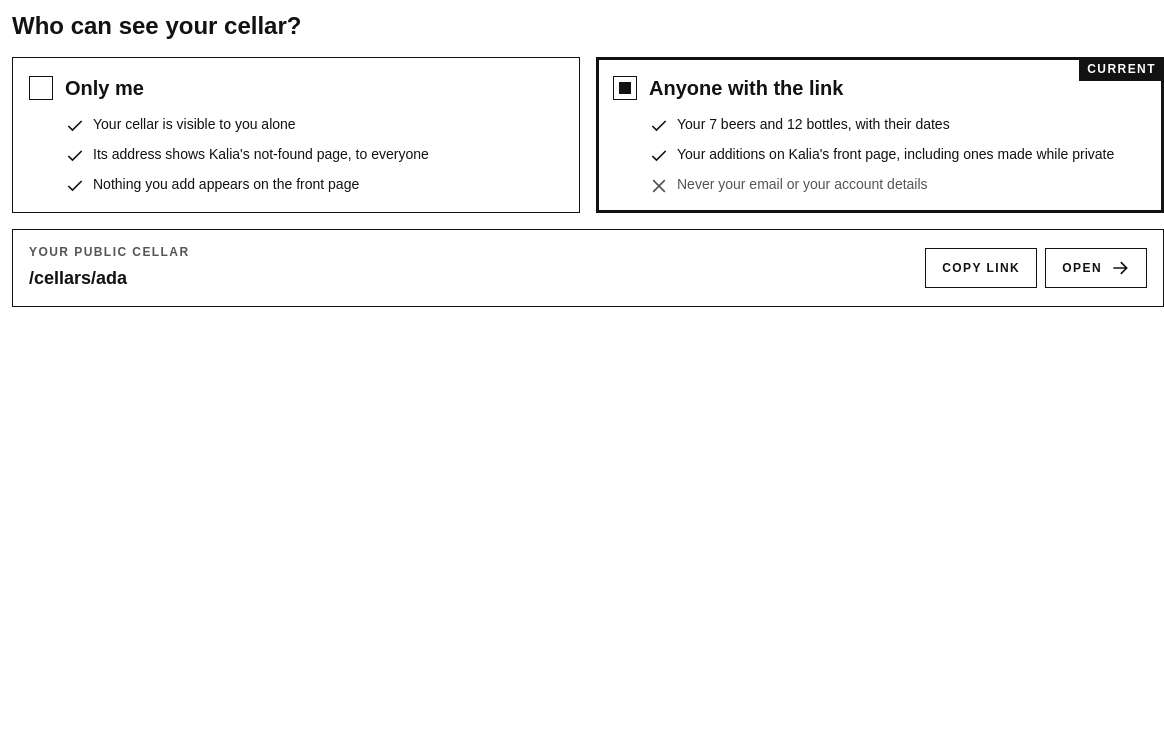
Test: VisibilityControl › makes the cellar private at once, without asking
This screenshot has width=1164, height=732.
Click the radio button labelled "Only me" at (41, 88), box [29,76,53,100]
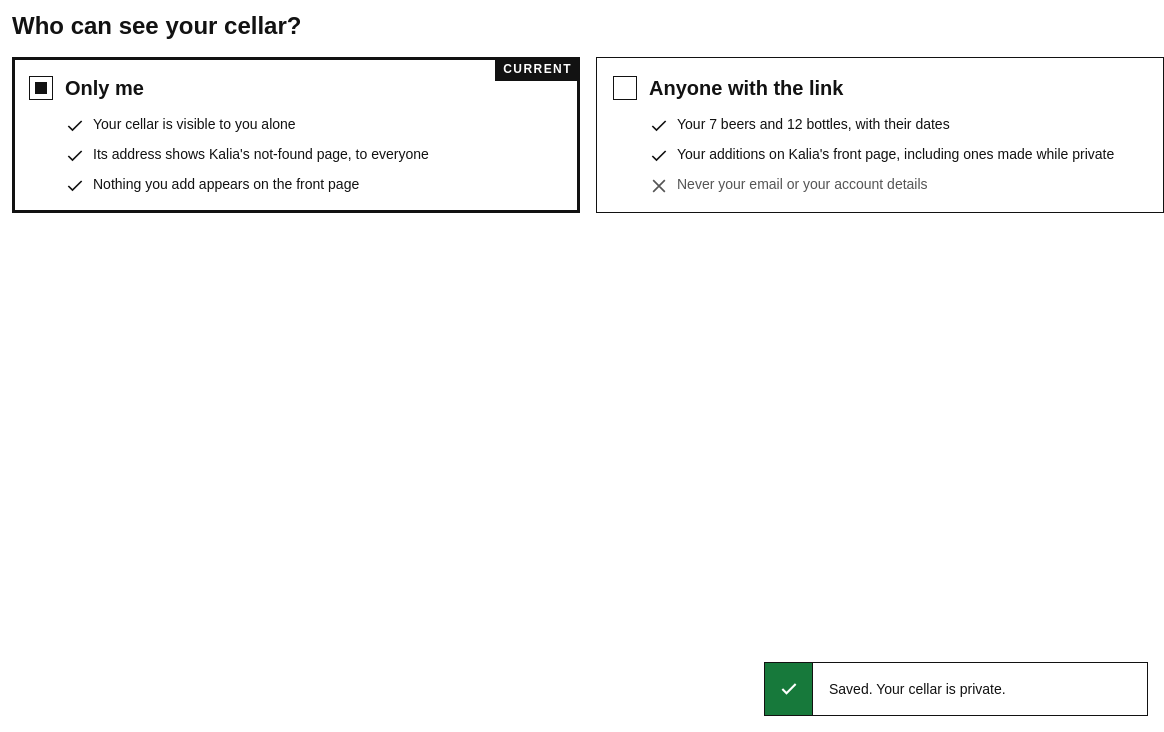
Expected: the text "Saved. Your cellar is private." is shown, [829,681,1006,697]
Expected: the text "/cellars/ada" is gone
